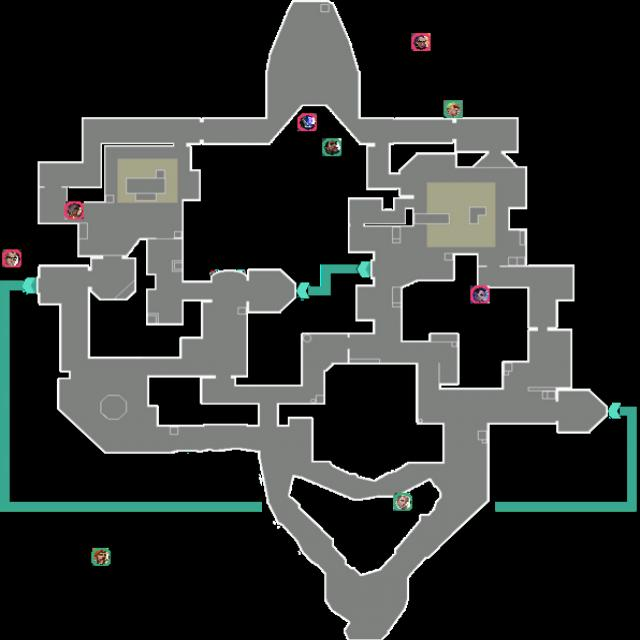atk_chamber: (2, 250, 22, 268)
atk_kayo: (297, 113, 317, 131)
atk_phoenix: (64, 202, 84, 220)
atk_reyna: (411, 33, 431, 51)
atk_yoru: (470, 286, 490, 304)
def_brimstone: (91, 548, 111, 566)
def_gekko: (443, 100, 463, 118)
def_harbor: (322, 138, 342, 156)
def_sova: (393, 493, 412, 511)
